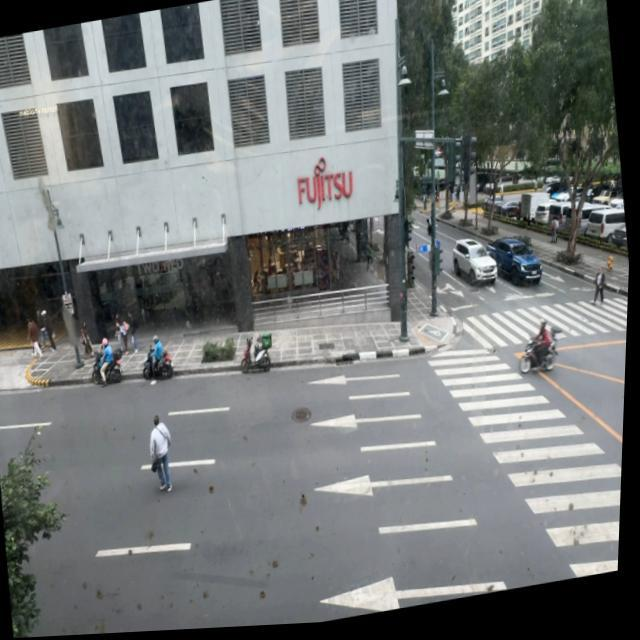jaywalking: (142, 410, 178, 494)
